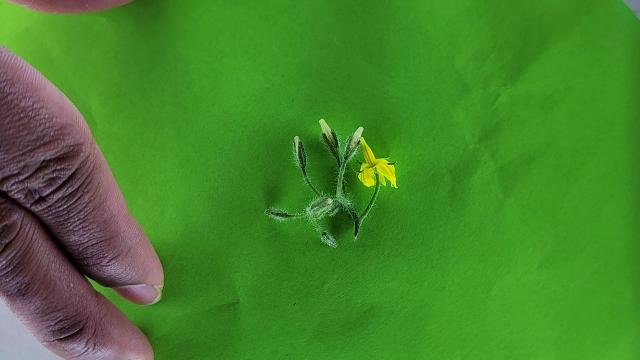Anthesis: (354, 136, 400, 192), (354, 135, 399, 190)
Flower Bud: (292, 134, 325, 199), (319, 117, 340, 165), (291, 135, 310, 173), (345, 125, 364, 156), (264, 208, 305, 220), (295, 136, 307, 170), (293, 136, 301, 156)
